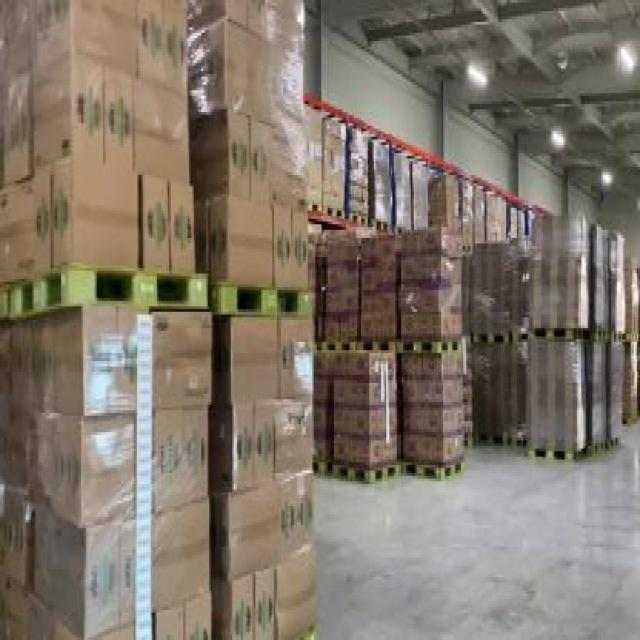box: (0, 3, 320, 632), (306, 224, 466, 482), (471, 213, 638, 460), (302, 101, 346, 222), (434, 178, 489, 252), (392, 148, 430, 232), (480, 194, 528, 254), (346, 128, 374, 230), (368, 131, 394, 235)
